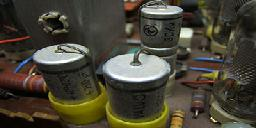Electrolytic Capacitor: (101, 46, 170, 128)
